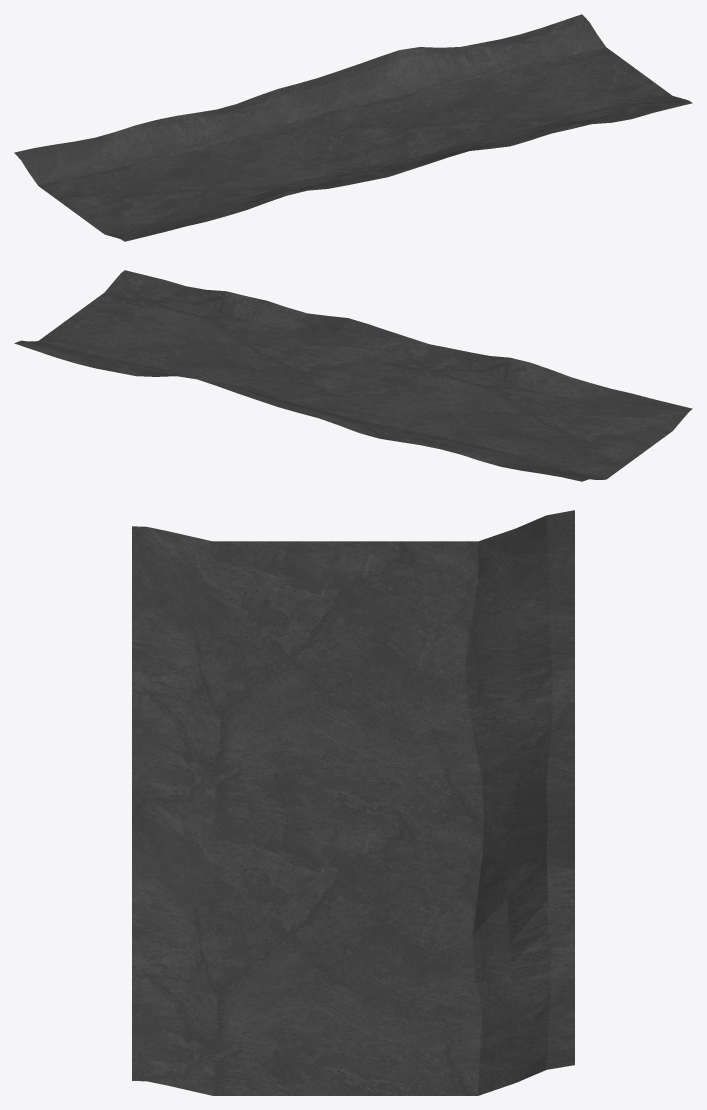
File: Tunnel_Floor.fbx
The picture shows the model from 3 angles, top to bottom: view 1: azimuth 30°, elevation 25°; view 2: azimuth 150°, elevation 25°; view 3: azimuth 270°, elevation 25°; orthographic projection. The views are drawn at different scales.
Visible parts, largest first — view 1: SM_ENV_NATURE_Cave_Floor_S_20m.mo; view 2: SM_ENV_NATURE_Cave_Floor_S_20m.mo; view 3: SM_ENV_NATURE_Cave_Floor_S_20m.mo.
Part boxes in pixels (bbox=[...]): SM_ENV_NATURE_Cave_Floor_S_20m.mo: bbox=[14, 14, 692, 241]; SM_ENV_NATURE_Cave_Floor_S_20m.mo: bbox=[14, 270, 692, 481]; SM_ENV_NATURE_Cave_Floor_S_20m.mo: bbox=[132, 510, 574, 1095].
Size of the model in its own units: 2000 by 81.29 by 676.
1 material, 1 textured.
